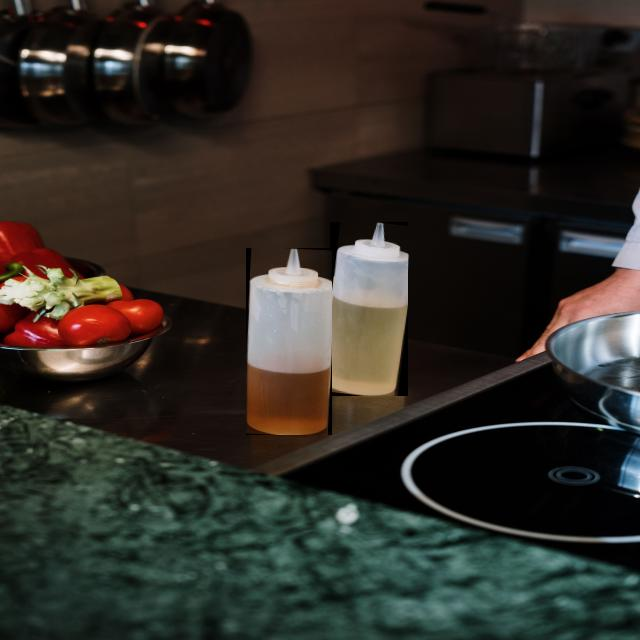Bottle: (247, 249, 331, 434), (331, 223, 408, 395)
